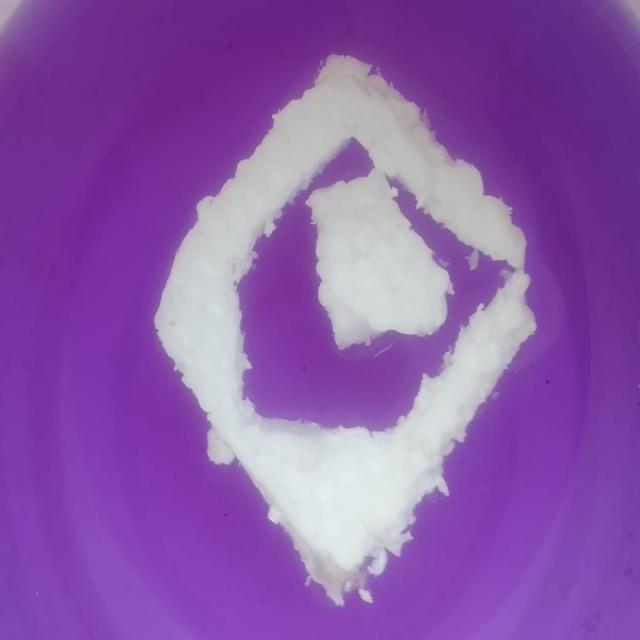litter: (153, 54, 548, 589)
